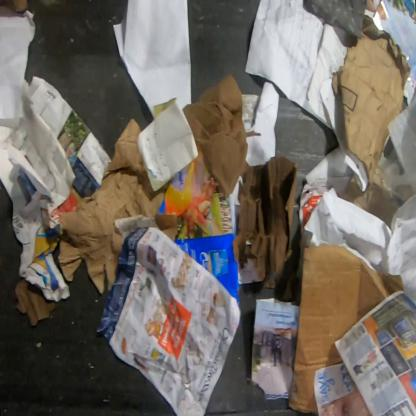cardboard: (56, 117, 178, 295), (288, 242, 404, 416), (332, 15, 416, 230), (295, 146, 369, 282), (182, 73, 258, 200), (232, 156, 300, 290), (365, 0, 415, 106), (0, 0, 28, 14), (366, 0, 376, 13)
soft_plastic: (157, 146, 216, 226), (379, 87, 415, 204), (303, 0, 367, 40)
